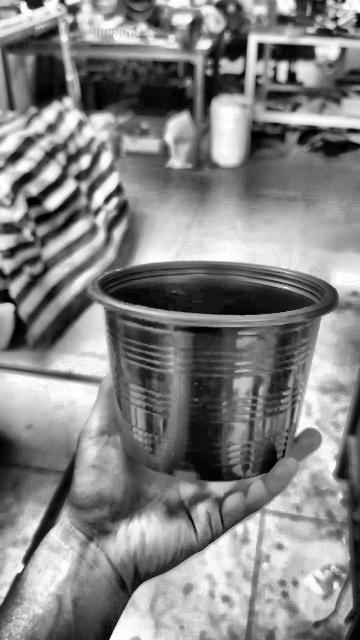pot: (87, 260, 336, 483)
